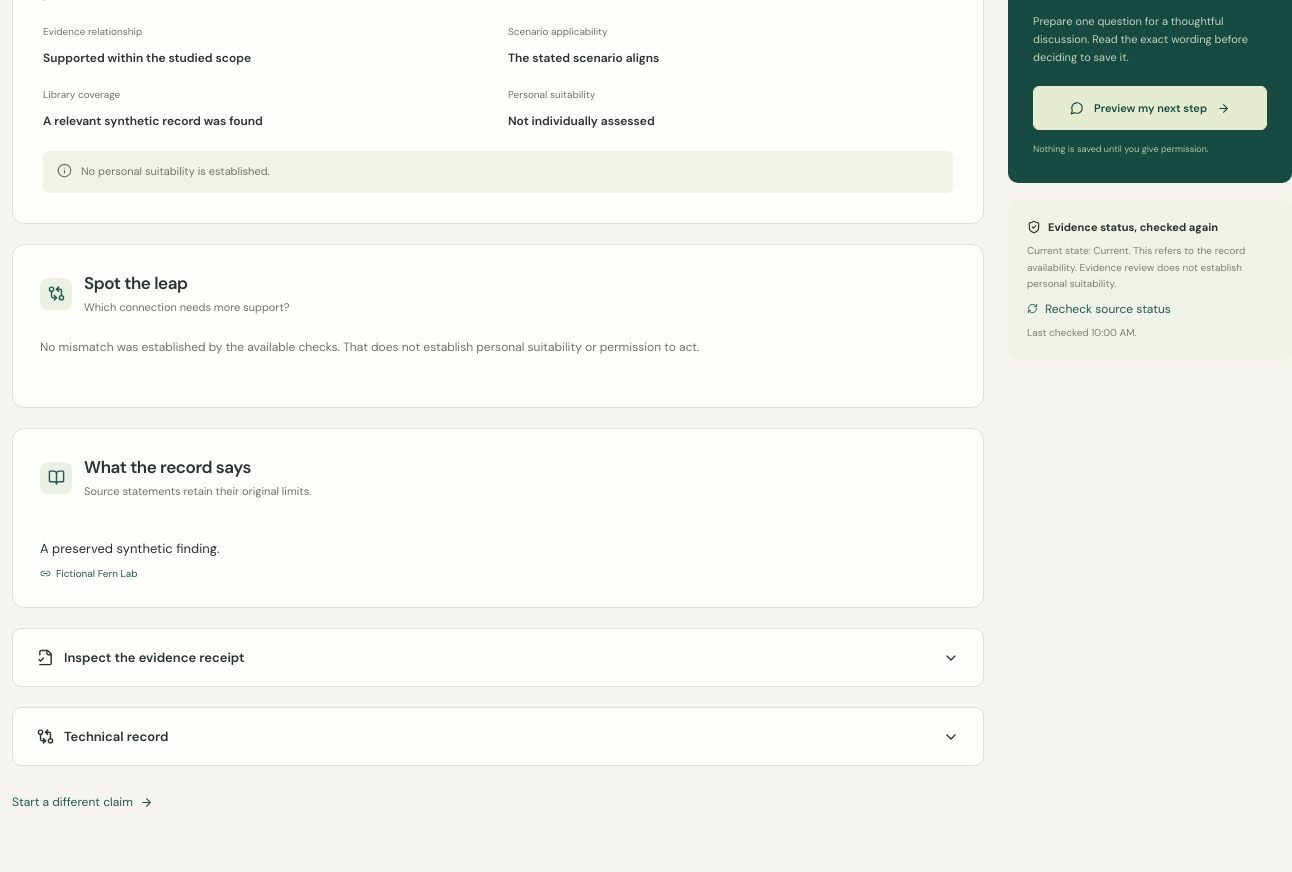
Test: Explicit save consent and current evidence boundaries › preserves the live receipt label with live alignment
(page scrolled)
Click the heading "Inspect the evidence receipt" at (154, 658), box [37, 649, 959, 666]
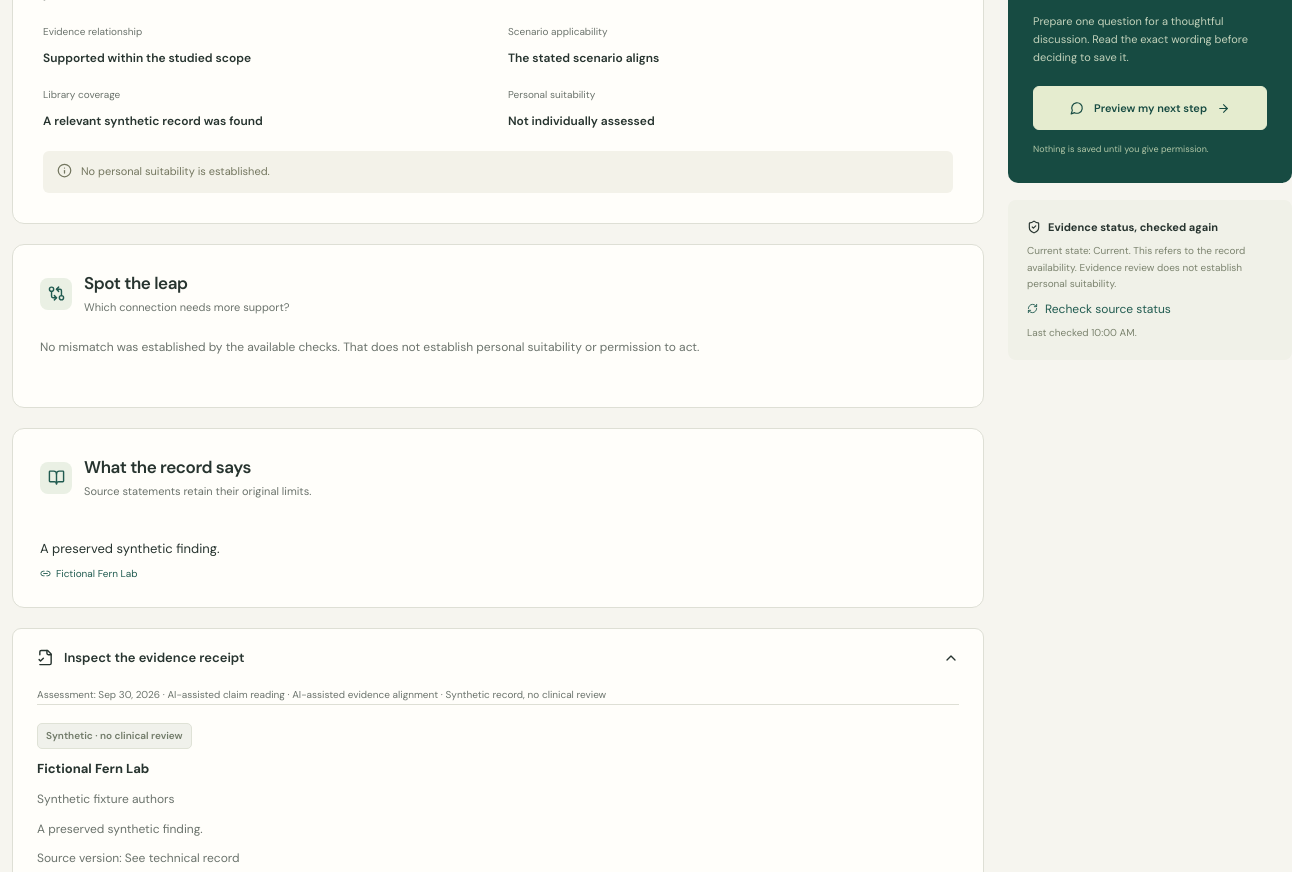
Expected: the text "AI-assisted claim reading" is shown, [167, 688, 285, 701]
Expected: the text "AI-assisted evidence alignment" is shown, [292, 688, 438, 701]
